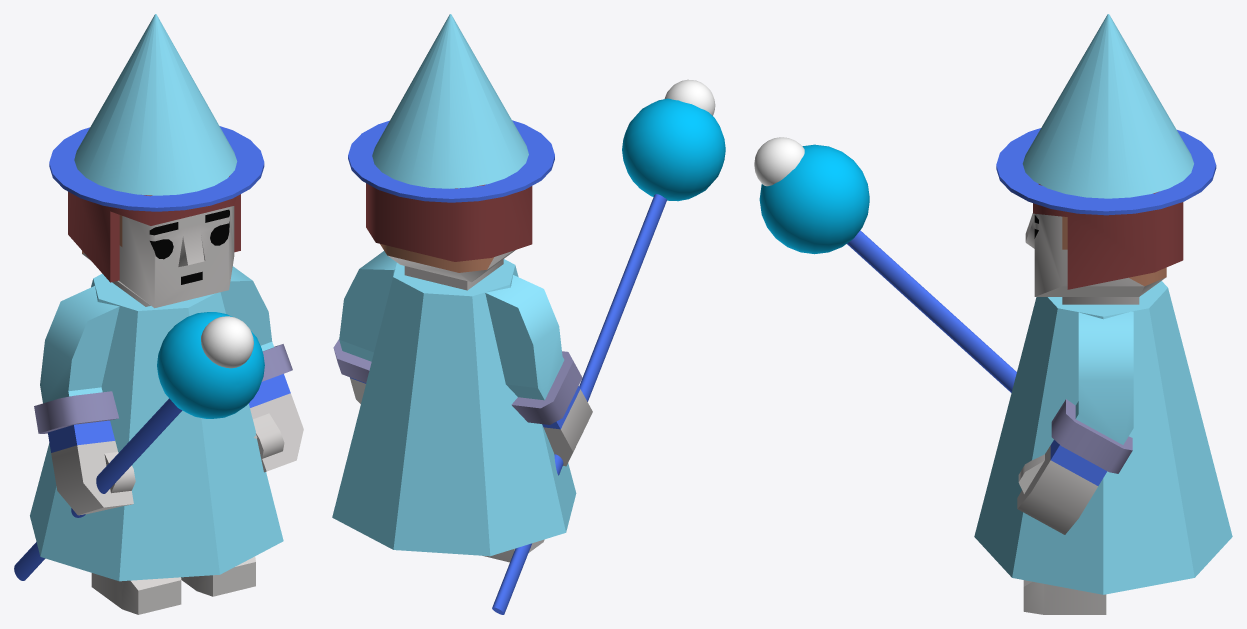
The model's file is Enemy6.fbx.
3 views of the same model, side by side, from view 1: azimuth 30°, elevation 25°; view 2: azimuth 150°, elevation 25°; view 3: azimuth 270°, elevation 25° (orthographic). The views are drawn at different scales.
Parts seen in each view (by area): view 1: mergedBlocks; view 2: mergedBlocks; view 3: mergedBlocks.
Boxes of the visible parts, x1,y1,x2,y2 form: mergedBlocks: (14, 14, 303, 614); mergedBlocks: (332, 14, 725, 614); mergedBlocks: (754, 14, 1232, 614).
Bounding box in the file's own units: 5.41 × 11.75 × 8.7.
